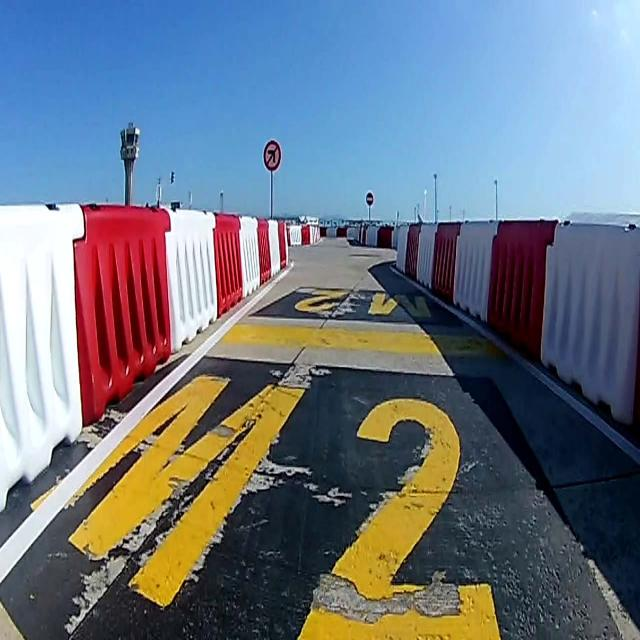girisyok: (364, 190, 374, 206)
soladonulmez: (262, 139, 282, 173)
